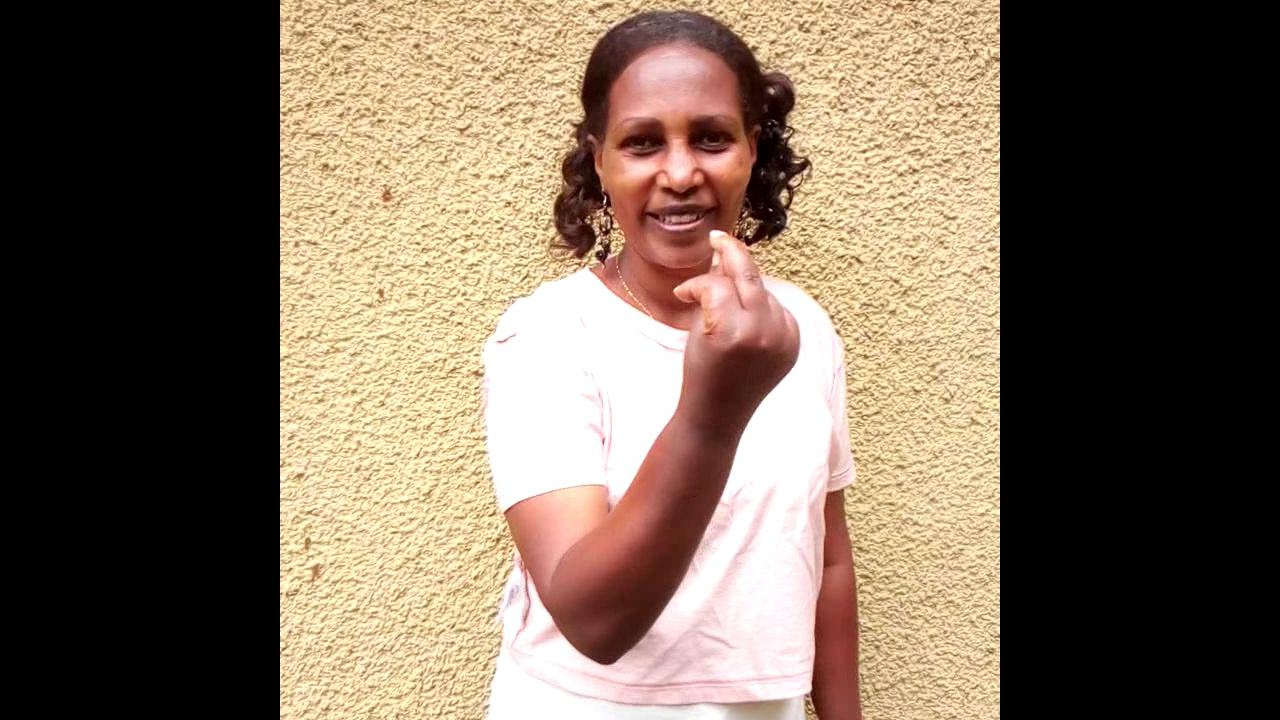CHE: (674, 233, 807, 511)
